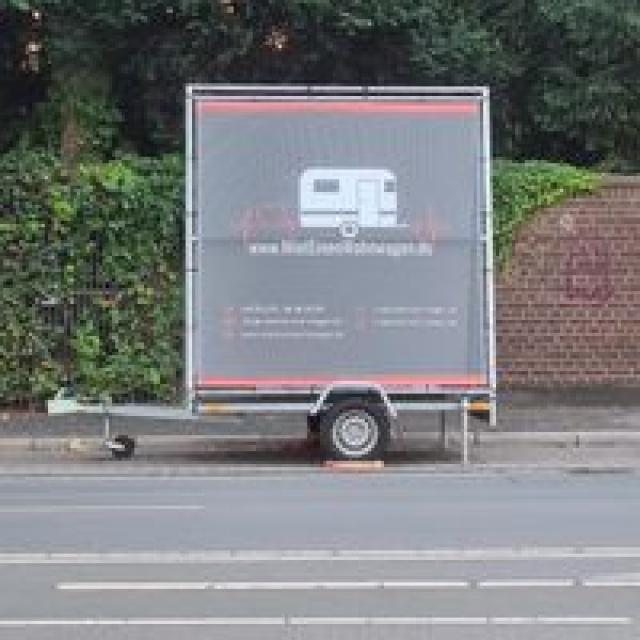Werbetafel frei: (179, 75, 501, 421)
